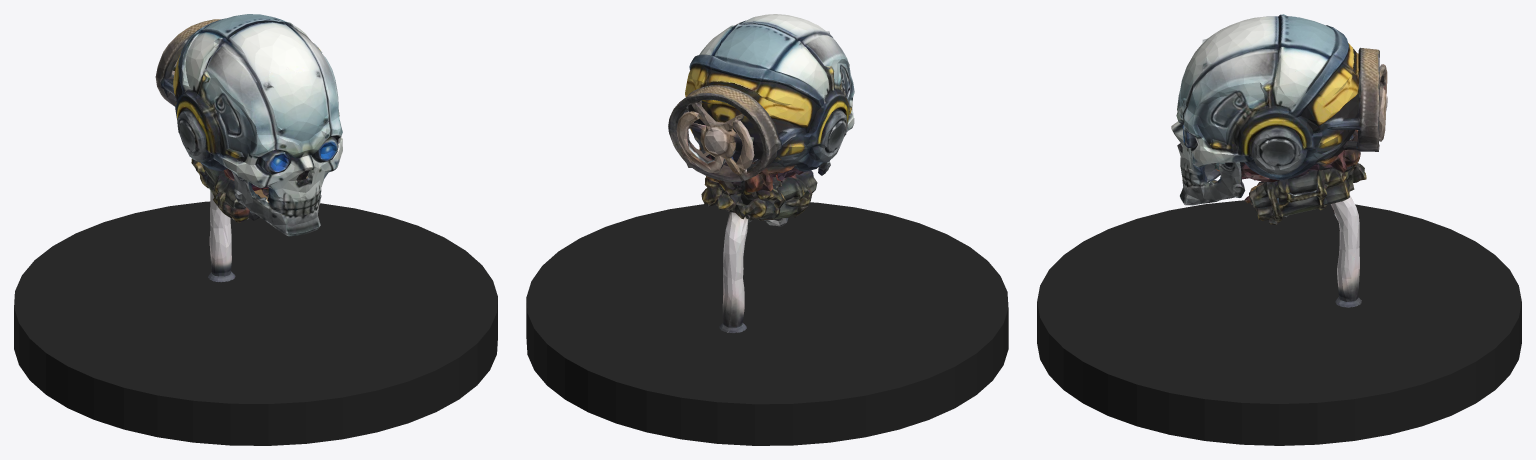
Rendered from nb-gheistskull.glb.
3 views of the same model, side by side, from view 1: azimuth 30°, elevation 25°; view 2: azimuth 150°, elevation 25°; view 3: azimuth 270°, elevation 25° (orthographic).
Parts seen in each view (by area): view 1: base, figure; view 2: base, figure; view 3: base, figure.
Boxes of the visible parts, <box> form: base: <box>14,201,497,445</box>; figure: <box>155,14,342,282</box>; base: <box>526,202,1008,445</box>; figure: <box>668,14,854,332</box>; base: <box>1037,200,1521,445</box>; figure: <box>1171,14,1387,307</box>.
Size of the model in its own units: 1.26 by 0.92 by 1.26.
2 materials, 1 textured.
